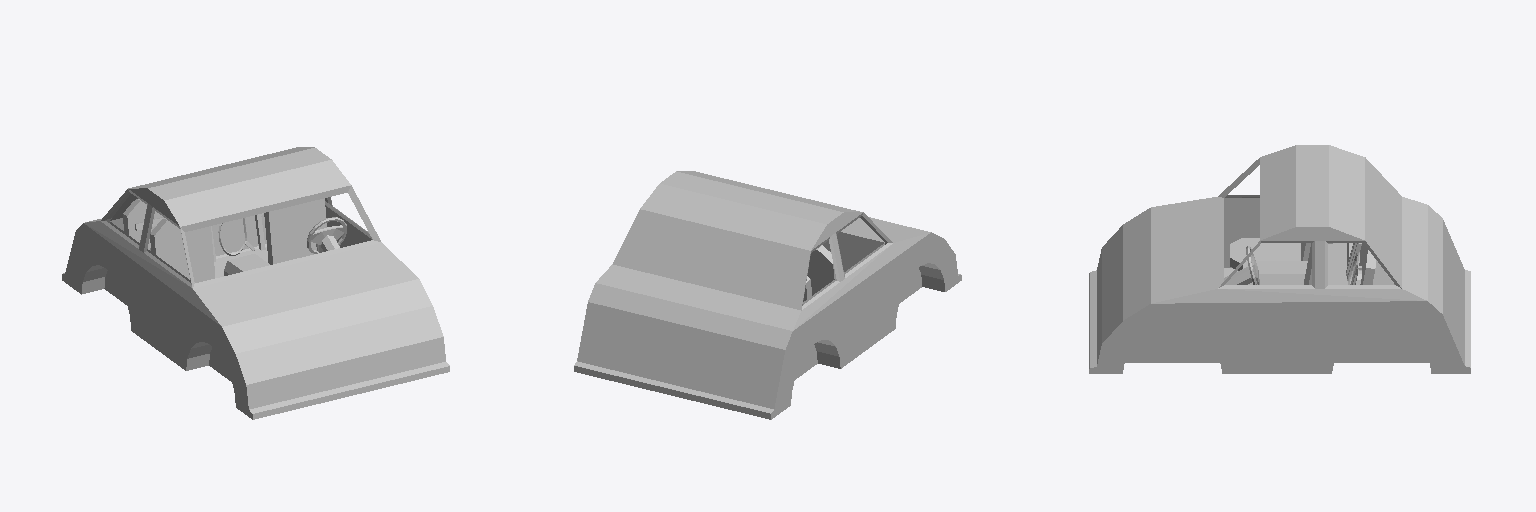
Rendered from Car.obj.
3 views of the same model, side by side, from view 1: azimuth 30°, elevation 25°; view 2: azimuth 150°, elevation 25°; view 3: azimuth 270°, elevation 25° (orthographic).
Parts seen in each view (by area): view 1: polySurface11, initialShadingGroup polySurface11; view 2: polySurface11; view 3: polySurface11, initialShadingGroup polySurface11.
Part boxes in pixels (left/top/right/bottom): polySurface11: left=62, top=147, right=449, bottom=419; initialShadingGroup polySurface11: left=135, top=213, right=265, bottom=261; polySurface11: left=574, top=171, right=961, bottom=419; polySurface11: left=1089, top=145, right=1470, bottom=373; initialShadingGroup polySurface11: left=1346, top=243, right=1361, bottom=284.
Size of the model in its own units: 2.9 by 1.97 by 4.87.